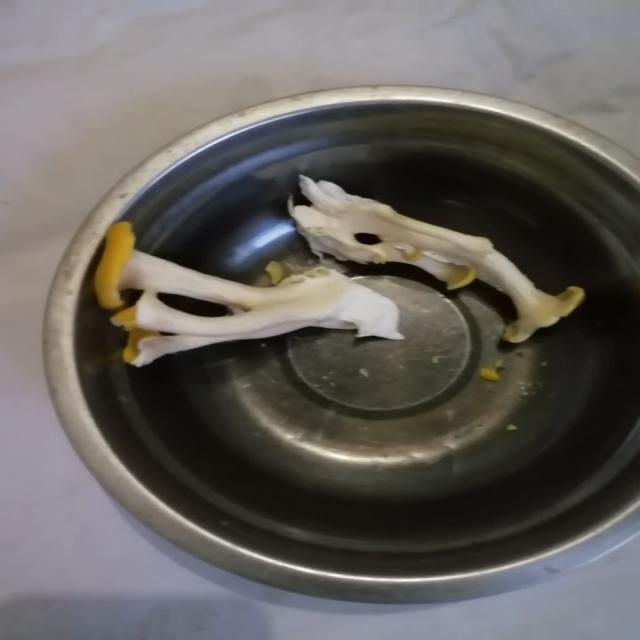Pleurotus citrinopileatus: (290, 178, 580, 347), (98, 222, 413, 367)
